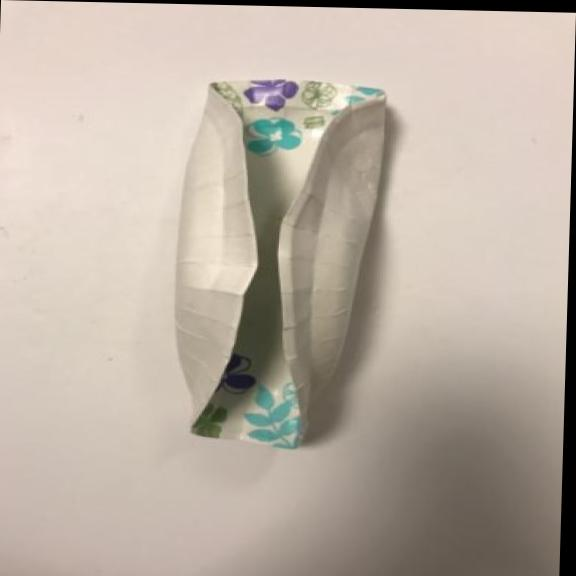Kertas: (146, 71, 415, 453)
